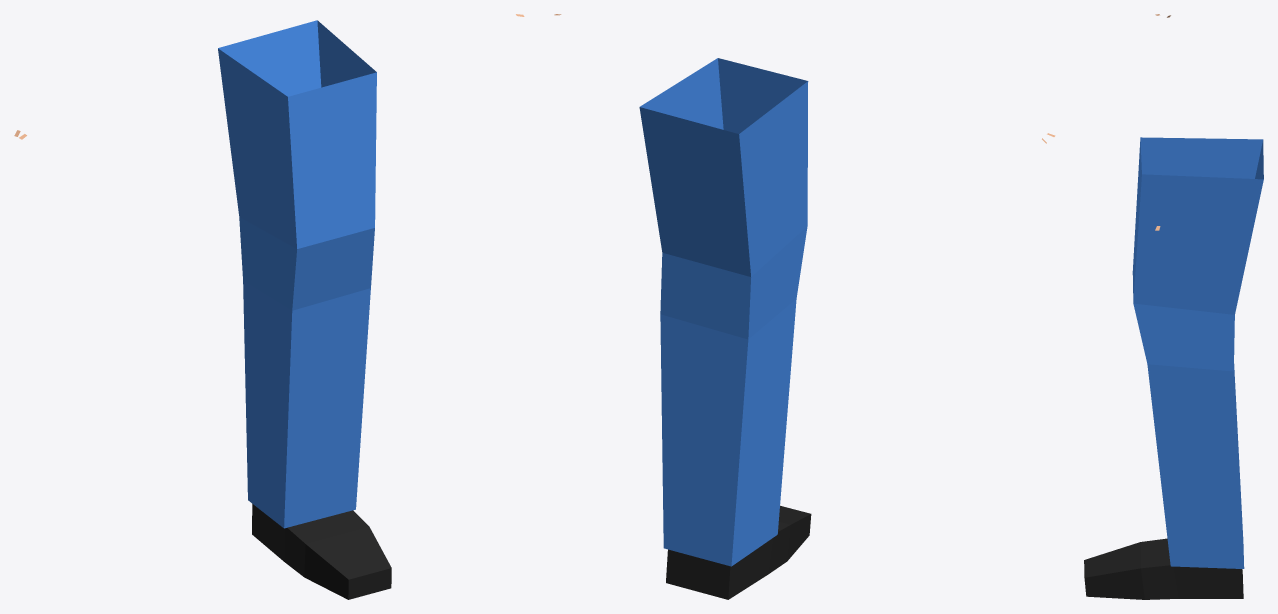
The model's file is guy_leg_right.obj.
3 views of the same model, side by side, from view 1: azimuth 30°, elevation 25°; view 2: azimuth 150°, elevation 25°; view 3: azimuth 270°, elevation 25° (orthographic). The views are drawn at different scales.
Visible parts, largest first — view 1: Cube; view 2: Cube; view 3: Cube.
Part boxes in pixels (x1=…): Cube: x1=14, y1=14, x2=524, y2=599; Cube: x1=554, y1=14, x2=1055, y2=599; Cube: x1=1084, y1=14, x2=1263, y2=599.
Bounding box in the file's own units: 1.49 × 1.42 × 0.5227.
4 materials, 3 textured.
